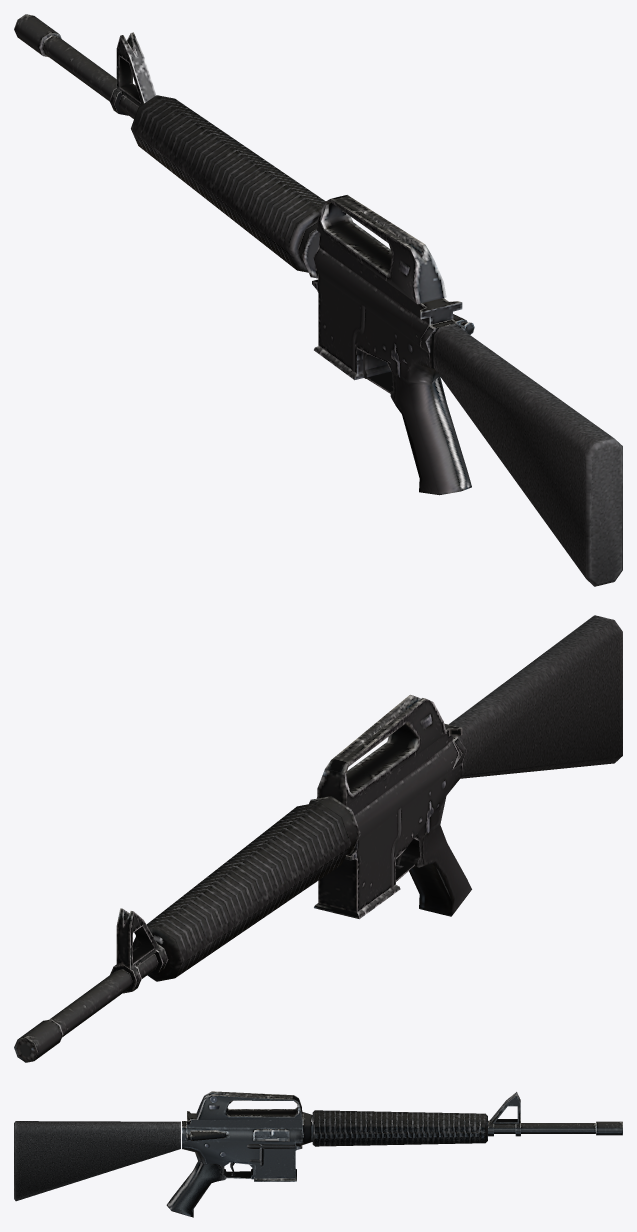
3 renders of one model, top to bottom at view 1: azimuth 30°, elevation 25°; view 2: azimuth 150°, elevation 25°; view 3: azimuth 270°, elevation 25°, orthographic. The views are drawn at different scales.
Visible parts, largest first — view 1: M16A2; view 2: M16A2; view 3: M16A2.
Boxes of the visible parts, <box> form: M16A2: <box>14,14,622,586</box>; M16A2: <box>14,615,622,1062</box>; M16A2: <box>14,1091,622,1217</box>.
Size of the model in its own units: 0.04 by 0.6188 by 0.1347.
